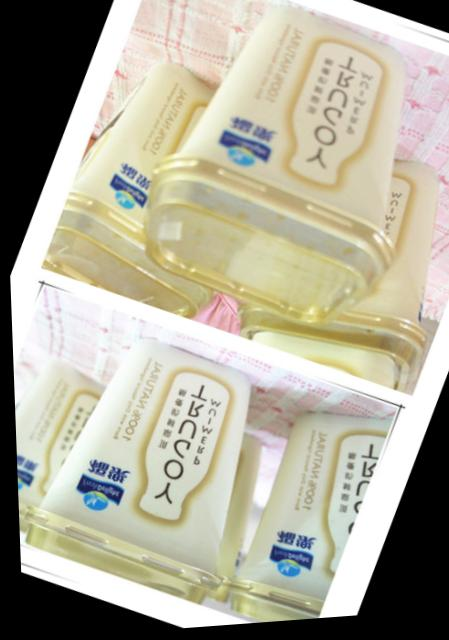plastic: (13, 0, 446, 394), (16, 288, 292, 626), (216, 375, 396, 618)
